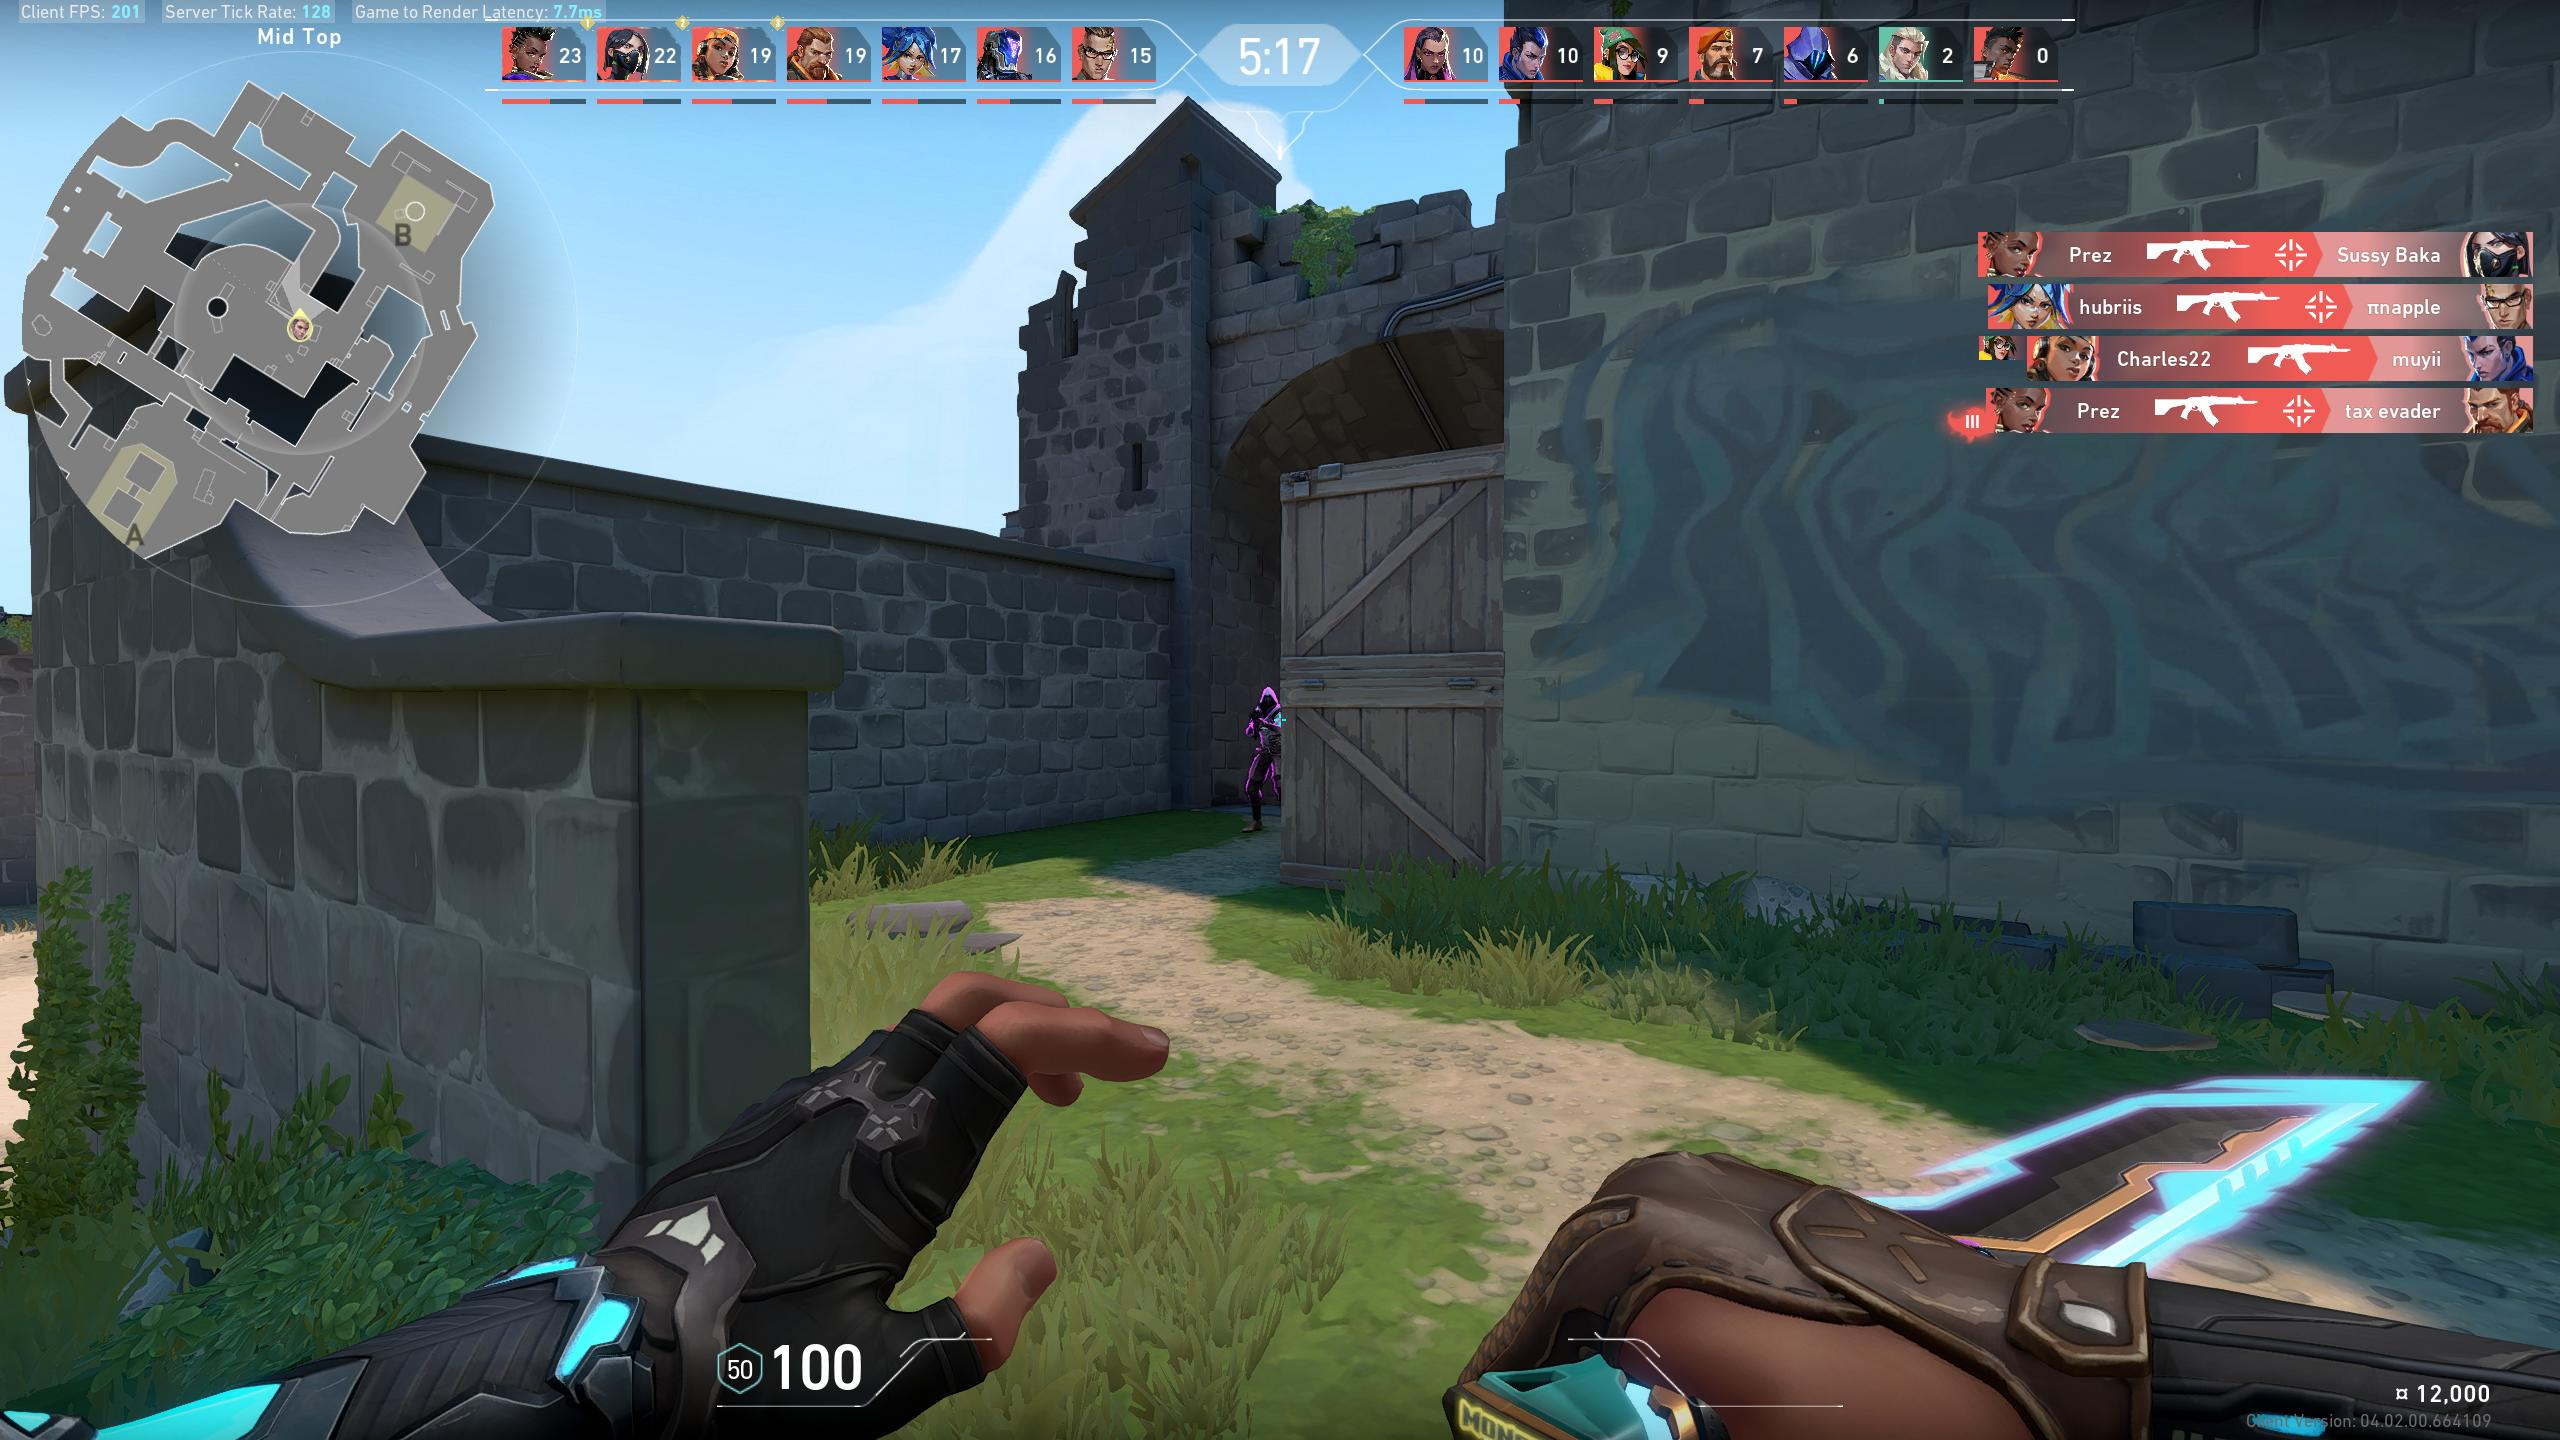enemyBody: (1261, 712, 1282, 744)
enemyHead: (1262, 691, 1273, 707)
